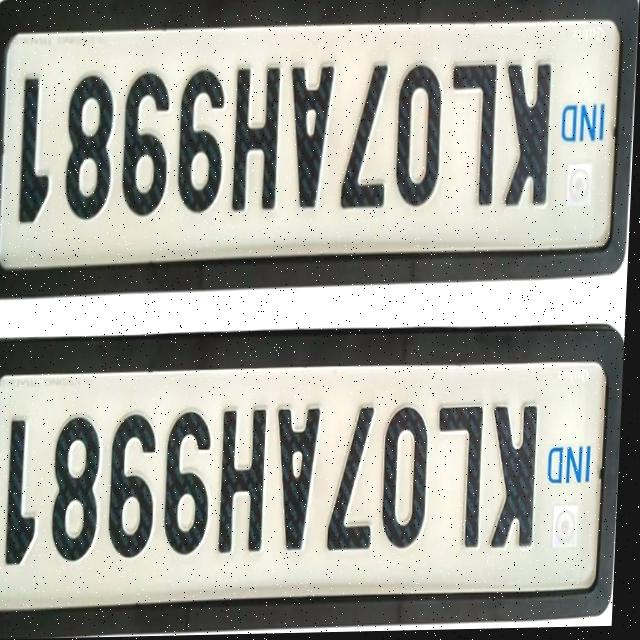plate: (0, 330, 628, 638), (0, 0, 640, 297)
